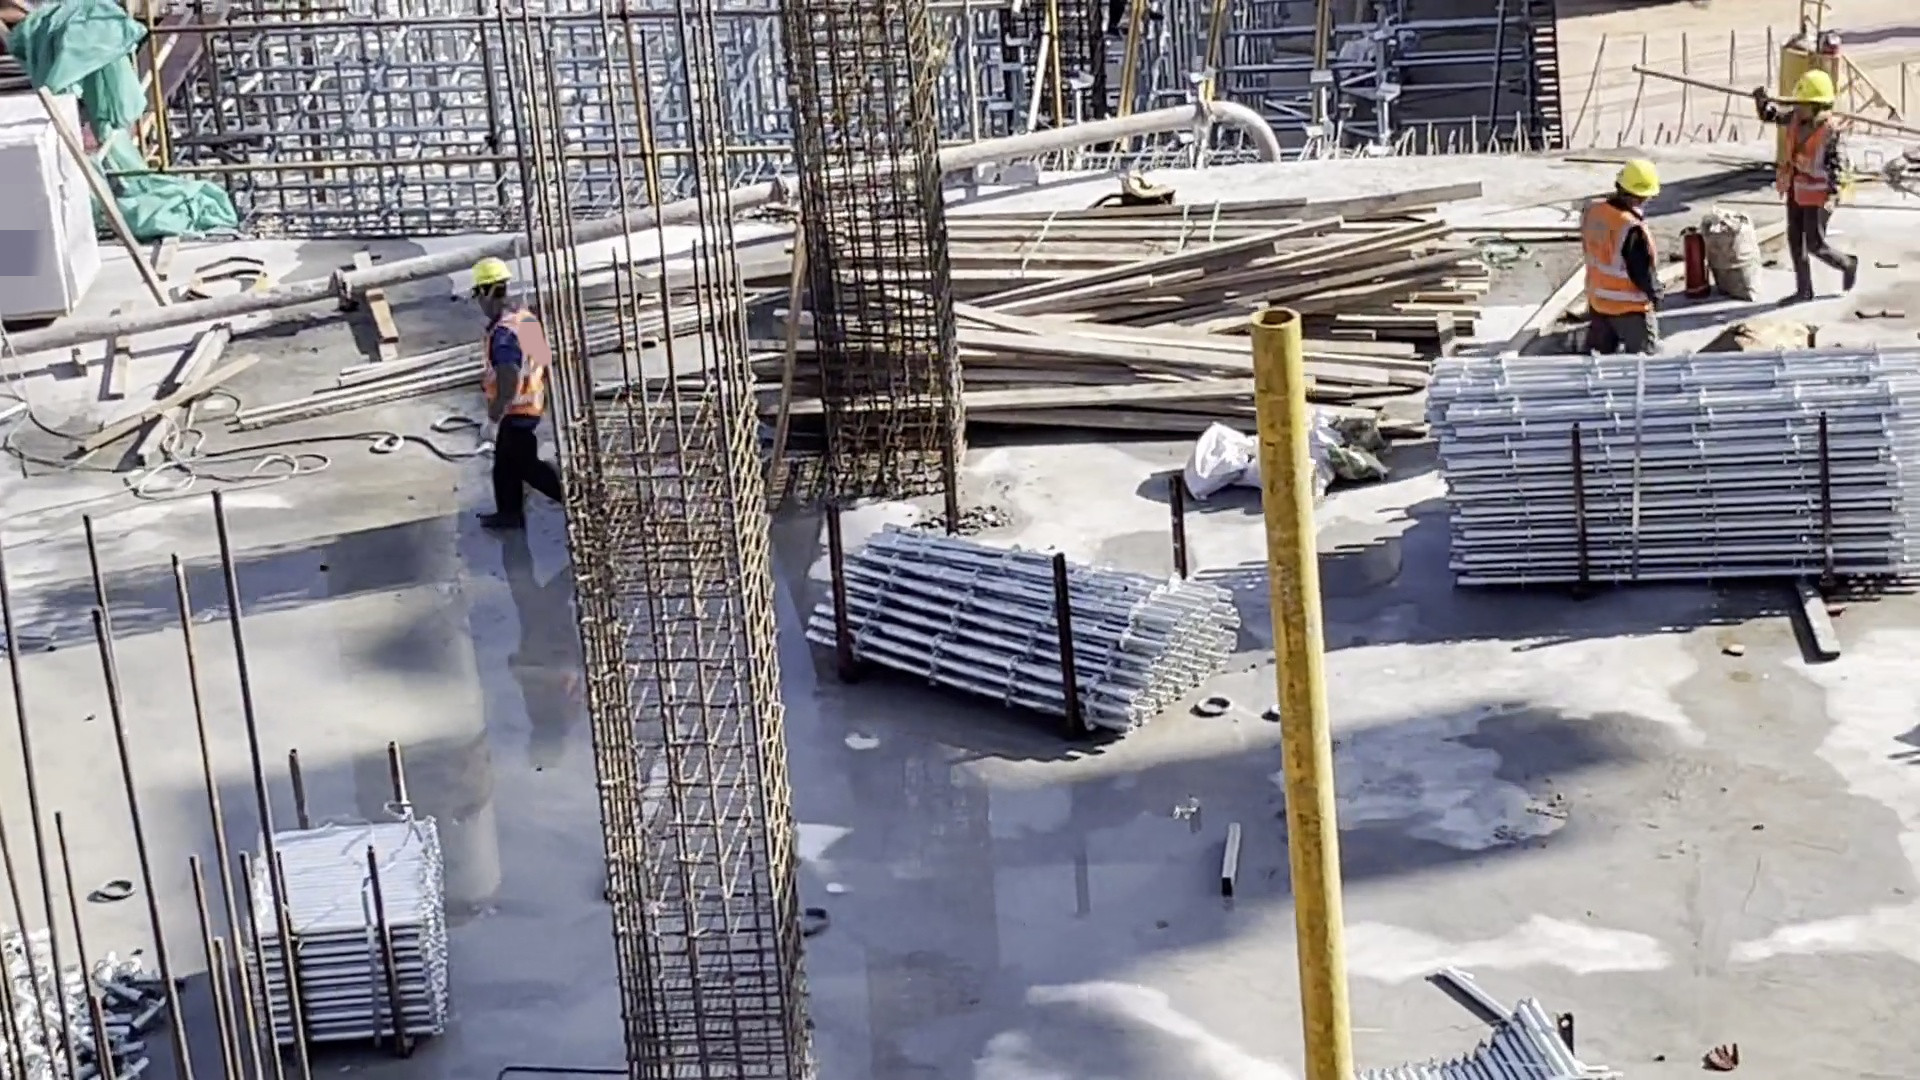helmet: (1783, 68, 1836, 109), (1612, 161, 1659, 200), (469, 255, 513, 288)
person: (1749, 63, 1862, 309), (471, 253, 567, 524), (1567, 158, 1665, 337)
scaffold: (1424, 350, 1920, 596), (798, 522, 1241, 748), (234, 819, 442, 1054), (1, 924, 160, 1080), (1355, 998, 1576, 1080)
vest: (480, 306, 560, 442), (1576, 205, 1657, 331), (1774, 109, 1836, 210)
wood: (958, 188, 1476, 433)
